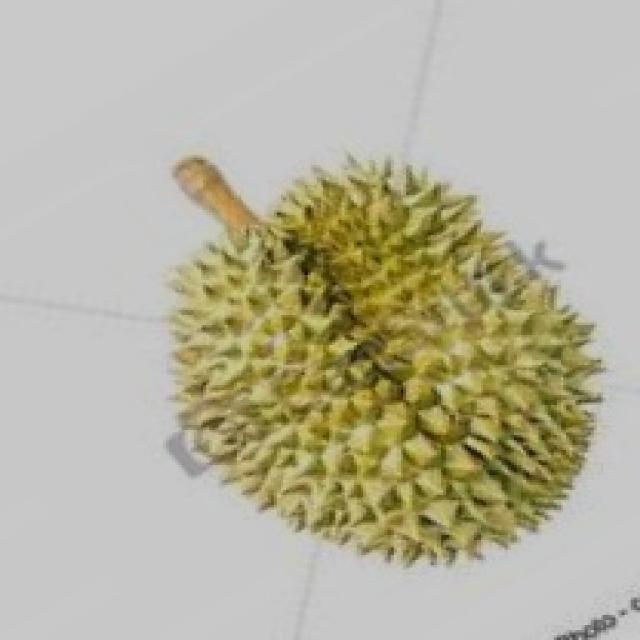fruit: (249, 208, 640, 622)
